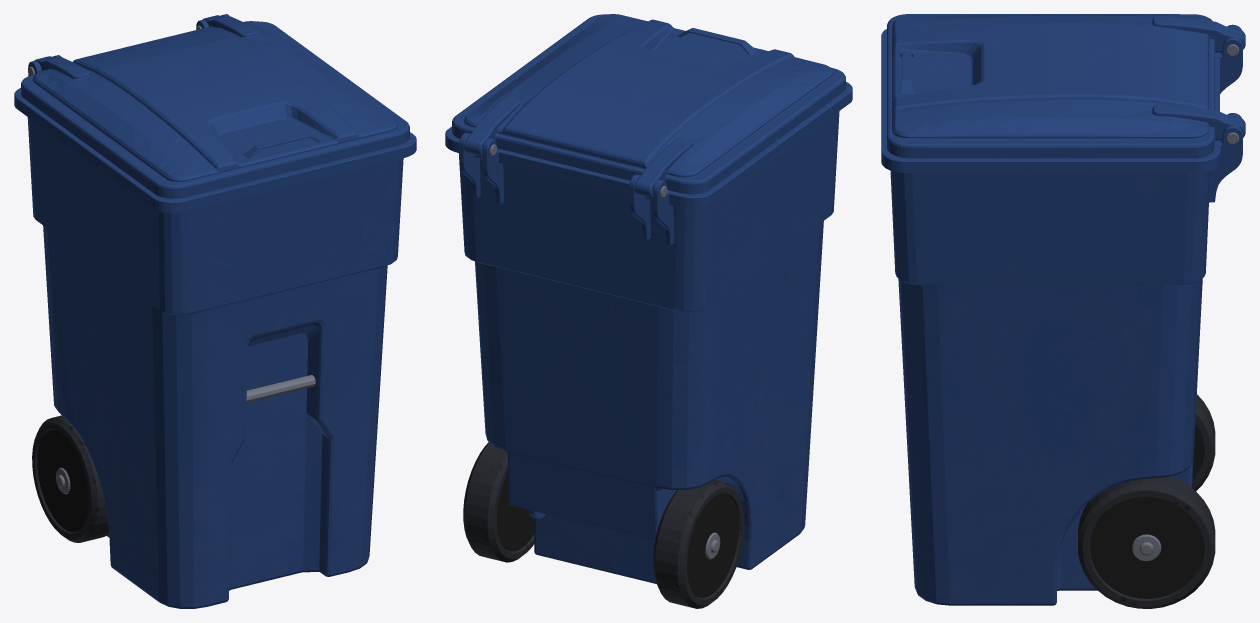
The model's file is contenedor_azul_reciclaje.glb.
The picture shows the model from 3 angles, left to right: view 1: azimuth 30°, elevation 25°; view 2: azimuth 150°, elevation 25°; view 3: azimuth 270°, elevation 25°; orthographic projection. The views are drawn at different scales.
Visible parts, largest first — view 1: can_recycling_base_realistic_lod0; view 2: can_recycling_base_realistic_lod0; view 3: can_recycling_base_realistic_lod0.
Boxes of the visible parts, x1=… form: can_recycling_base_realistic_lod0: x1=14, y1=14, x2=416, y2=608; can_recycling_base_realistic_lod0: x1=445, y1=14, x2=852, y2=608; can_recycling_base_realistic_lod0: x1=881, y1=14, x2=1245, y2=608.
Size of the model in its own units: 0.7222 by 1.22 by 0.8132.
1 material, 1 textured.
